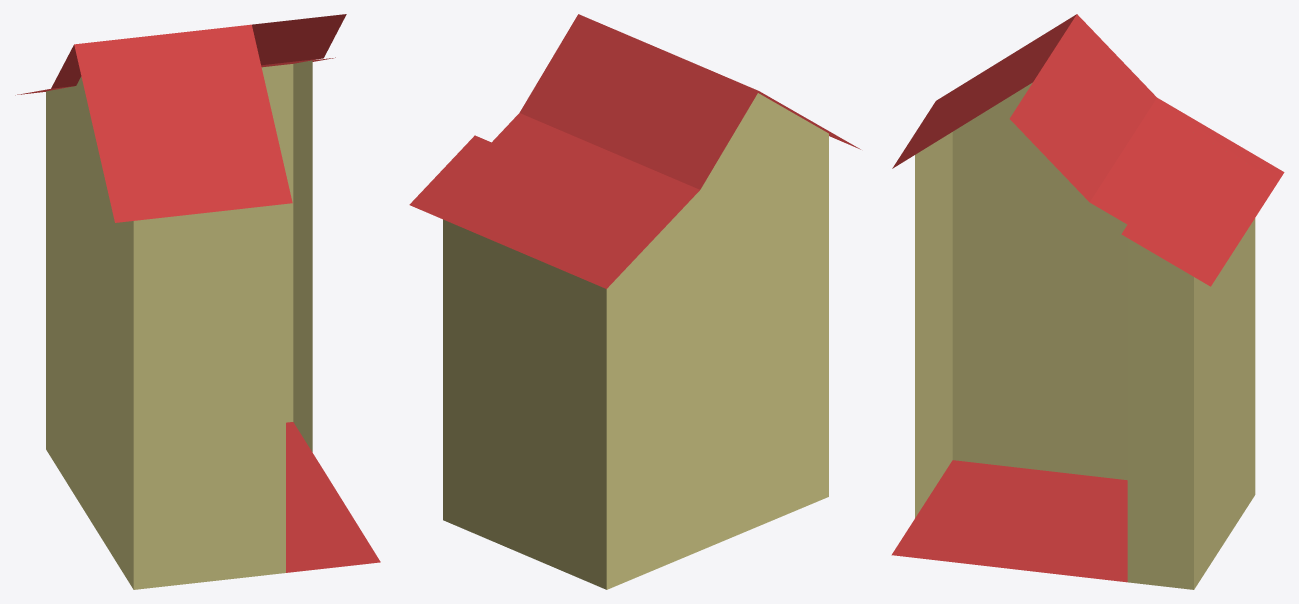
3 views of the same model, side by side, from view 1: azimuth 30°, elevation 25°; view 2: azimuth 150°, elevation 25°; view 3: azimuth 270°, elevation 25° (orthographic). The views are drawn at different scales.
Size of the model in its own units: 7.67 by 8.24 by 10.4.
